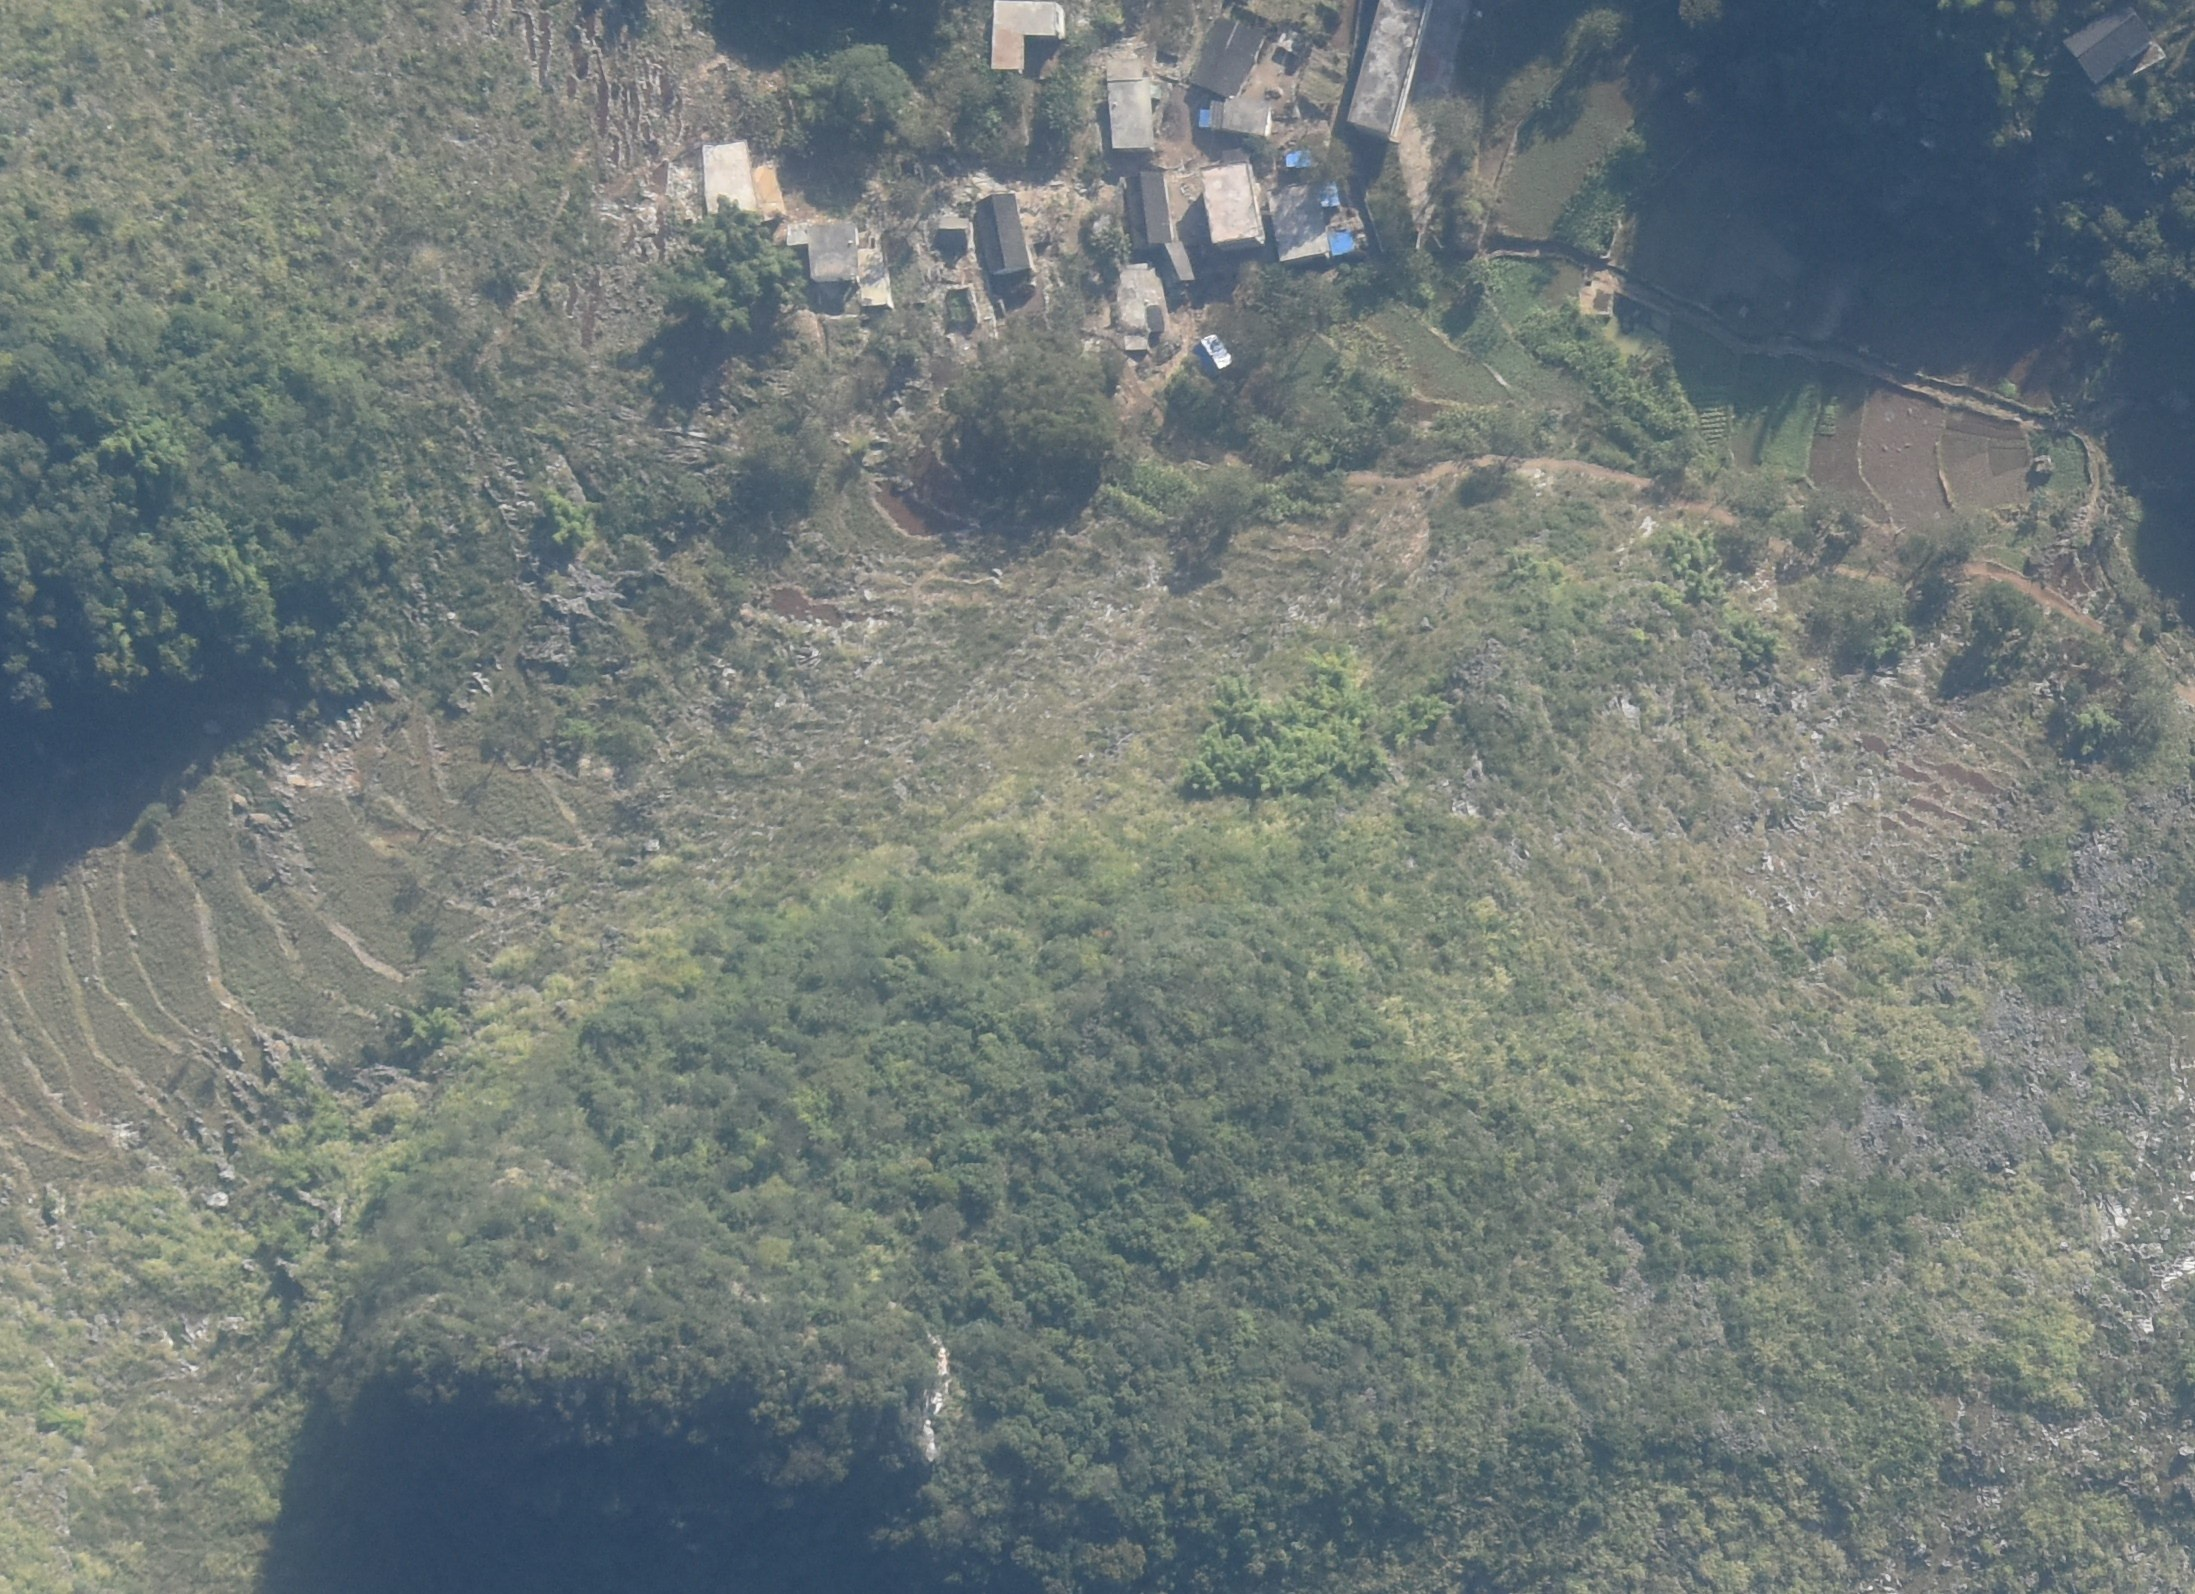building: (1346, 1, 1428, 137), (786, 225, 894, 310), (2060, 4, 2154, 85), (702, 140, 786, 219), (1189, 17, 1268, 101), (1102, 38, 1154, 149), (989, 3, 1062, 72), (1265, 182, 1326, 264), (1204, 163, 1264, 246), (1120, 265, 1170, 350), (977, 193, 1030, 273), (1123, 169, 1171, 244), (1154, 241, 1196, 290), (1221, 101, 1271, 134), (937, 218, 970, 244)
prefabricated-house: (1331, 226, 1357, 256), (1320, 185, 1338, 206), (1201, 110, 1212, 130)
vehicle: (1198, 333, 1231, 369)
